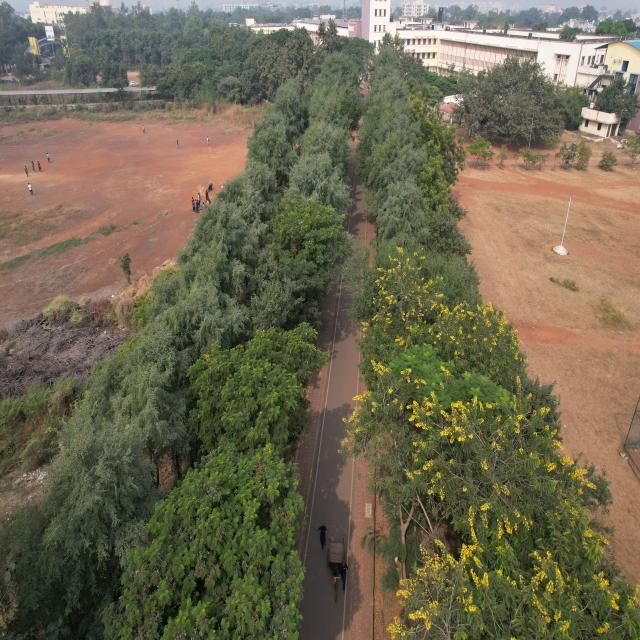Devakanchan tree: (256, 261, 294, 322)
Neem Tree: (426, 117, 462, 207)
